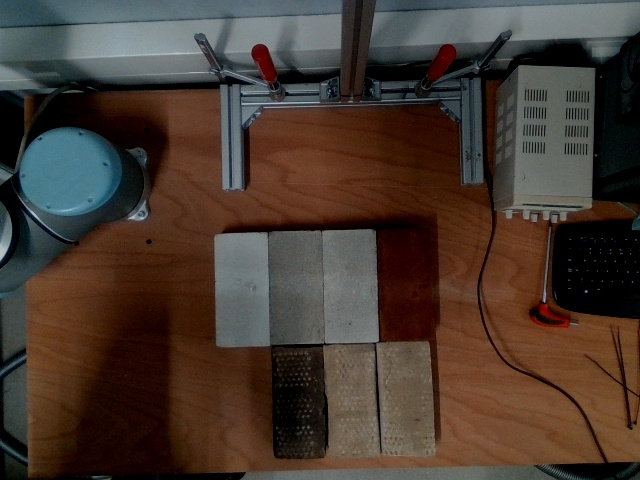brick: (322, 231, 377, 342), (269, 231, 323, 344), (215, 233, 268, 346), (380, 342, 432, 452), (325, 348, 378, 452), (380, 230, 431, 338), (277, 348, 321, 456)
